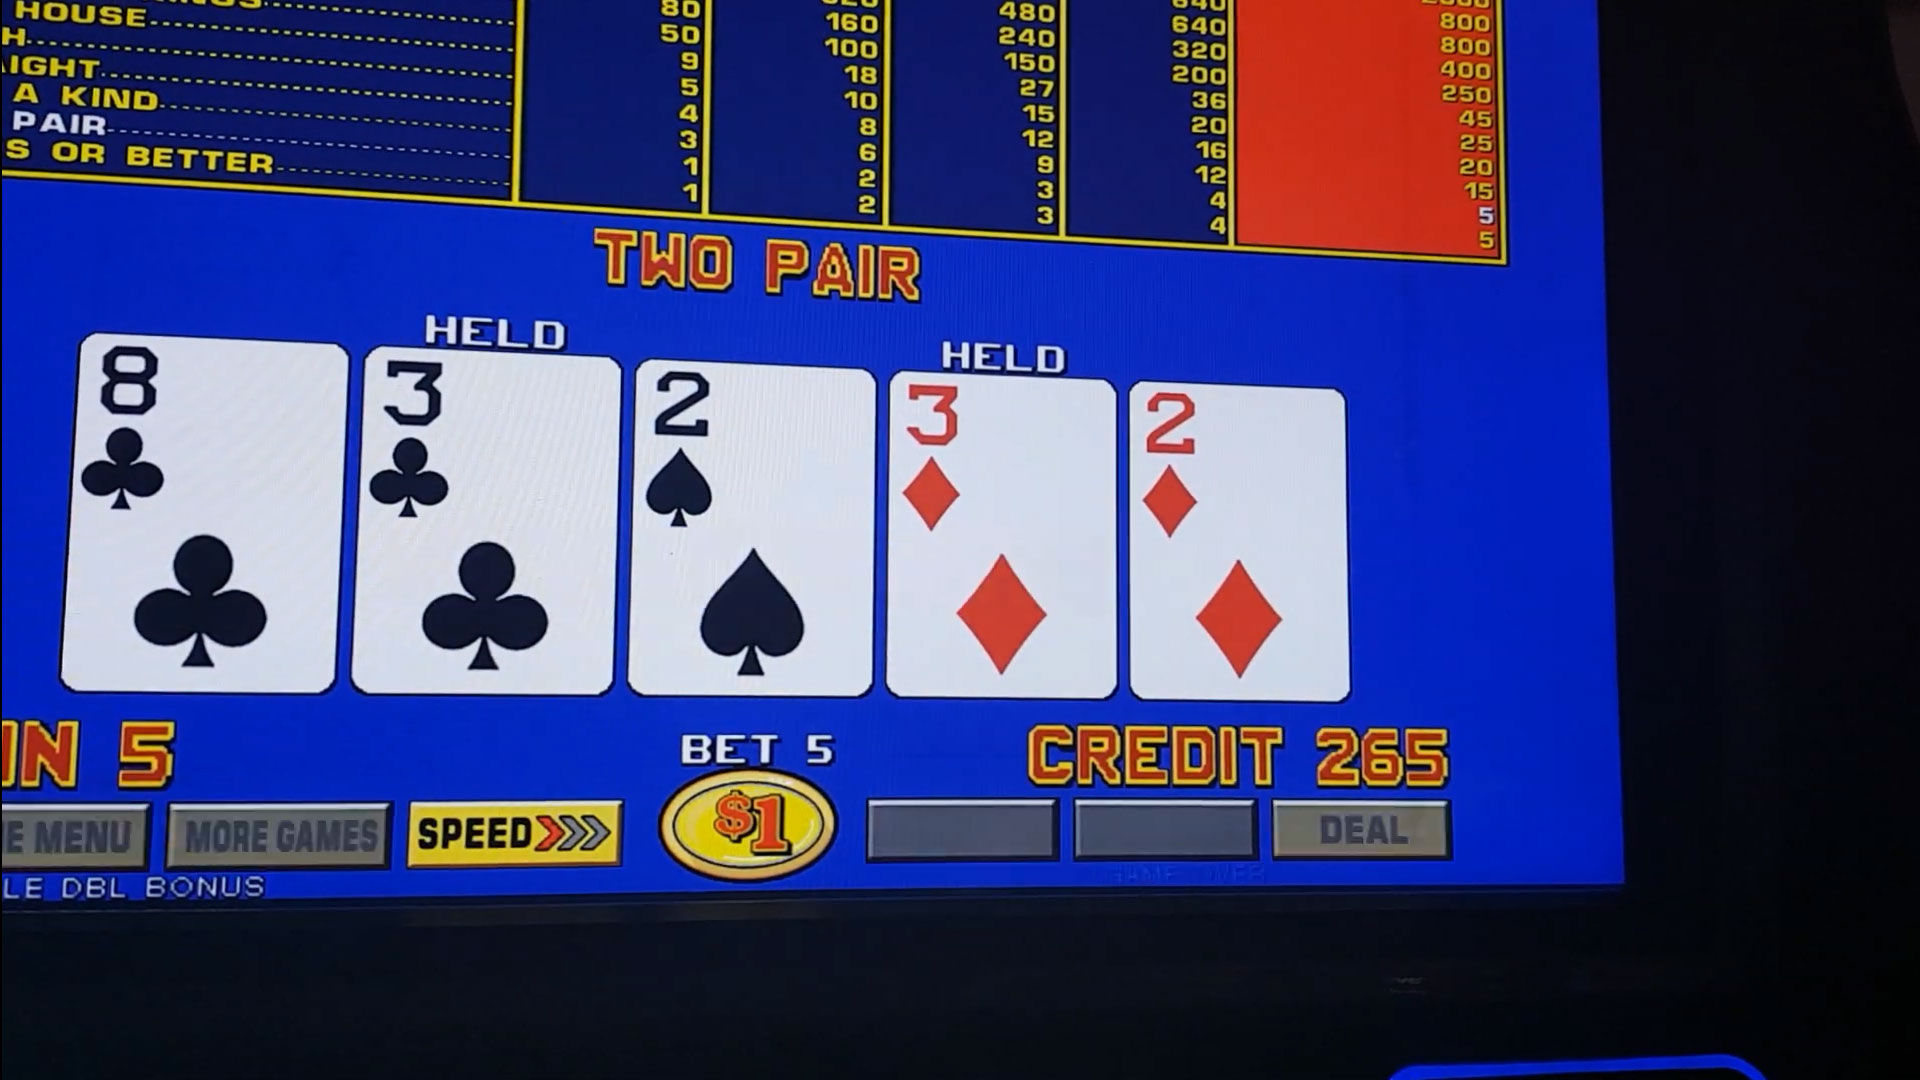C3: (368, 356, 615, 535)
C8: (80, 344, 342, 526)
D2: (1129, 389, 1345, 549)
D3: (889, 384, 1113, 550)
S2: (637, 373, 870, 545)
